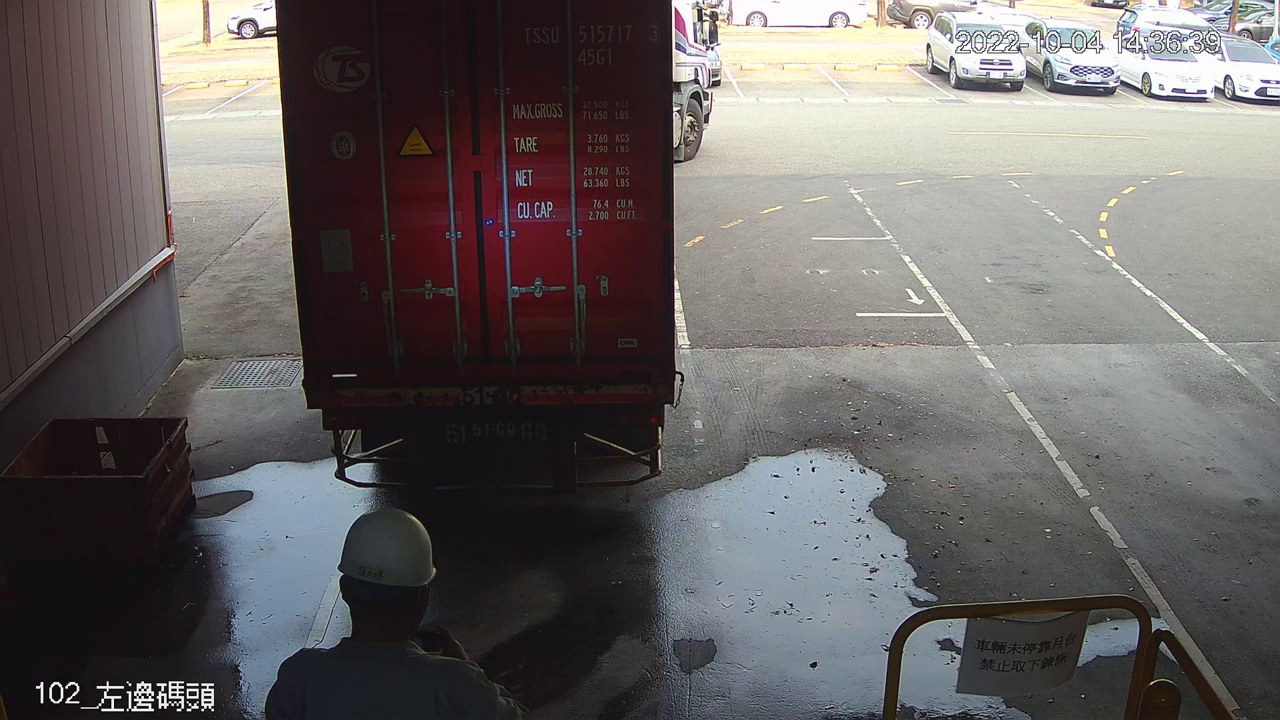container: (516, 16, 666, 72)
